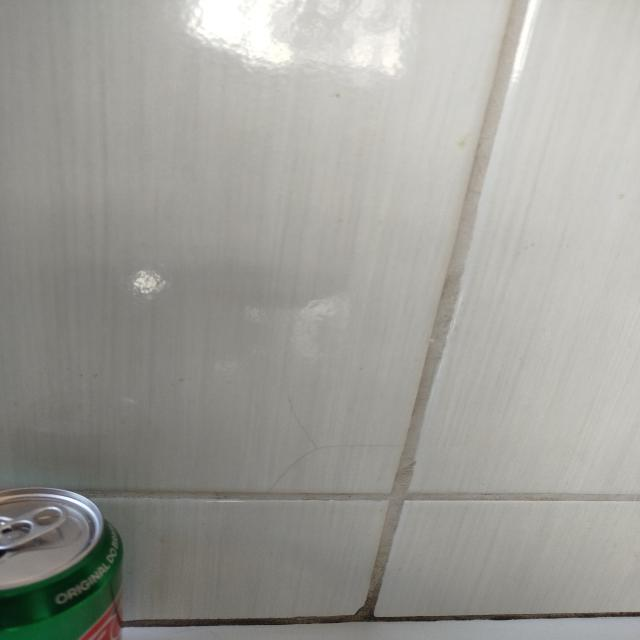Guarana: (0, 483, 126, 639)
